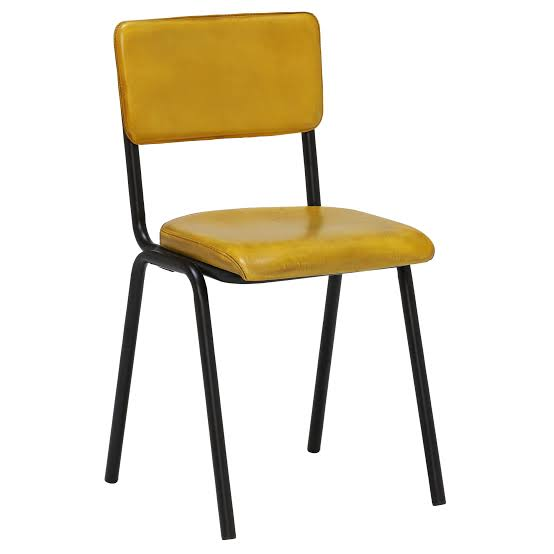chair: (97, 7, 454, 545)
